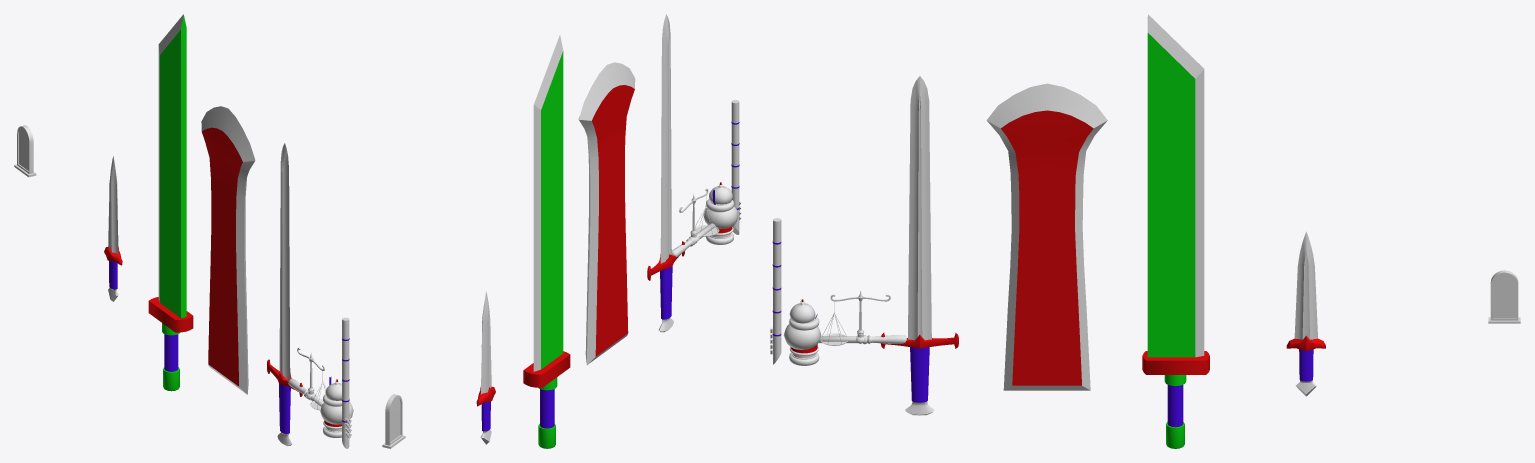
File: Fall Arenas.fbx
3 views of the same model, side by side, from view 1: azimuth 30°, elevation 25°; view 2: azimuth 150°, elevation 25°; view 3: azimuth 270°, elevation 25° (orthographic). The views are drawn at different scales.
Parts seen in each view (by area): view 1: Big Blade, Big Sword, Sword, Dagger, Bamboo, Grave, Gourd, Hammer End; view 2: Big Blade, Big Sword, Sword, Dagger, Bamboo, Gourd, Grave, Hammer End; view 3: Big Blade, Big Sword, Sword, Dagger, Grave, Bamboo, Gourd, Hammer End.
Boxes of the visible parts, x1,y1,x2,y2 form: Big Blade: [201, 106, 255, 394]; Big Sword: [148, 14, 193, 391]; Sword: [267, 143, 302, 446]; Dagger: [104, 156, 122, 301]; Bamboo: [342, 317, 349, 448]; Grave: [14, 125, 36, 177]; Gourd: [320, 376, 353, 424]; Hammer End: [323, 394, 349, 437]; Big Blade: [578, 62, 635, 364]; Big Sword: [523, 35, 570, 448]; Sword: [647, 14, 684, 332]; Dagger: [476, 291, 495, 444]; Bamboo: [731, 100, 739, 234]; Gourd: [703, 182, 738, 228]; Grave: [382, 394, 405, 448]; Hammer End: [706, 199, 733, 244]; Big Blade: [986, 83, 1107, 390]; Big Sword: [1142, 14, 1209, 448]; Sword: [880, 76, 958, 415]; Dagger: [1286, 231, 1325, 396]; Grave: [1488, 270, 1520, 323]; Bamboo: [772, 218, 781, 364]; Gourd: [784, 299, 821, 349]; Hammer End: [789, 316, 819, 365].
Bounding box in the file's own units: 2.72 × 34.39 × 54.19.
